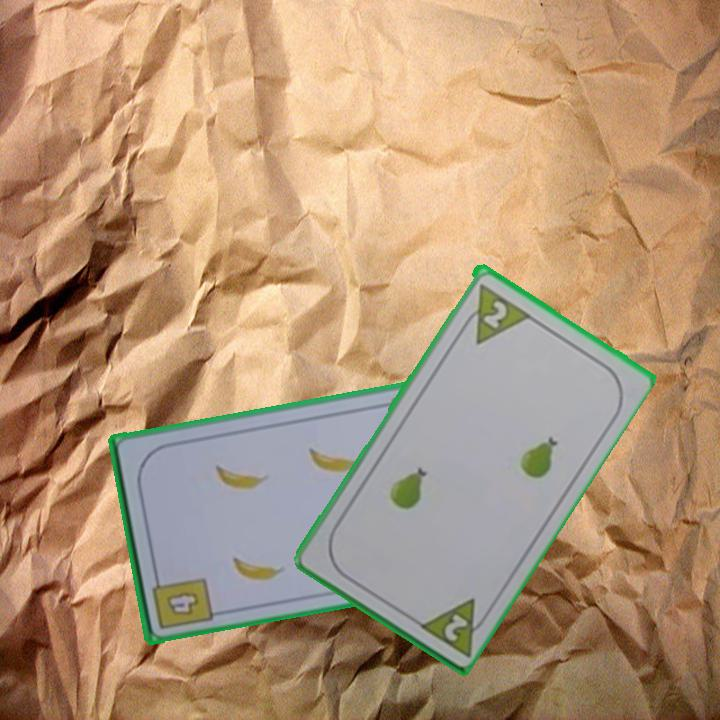2p: (479, 296, 510, 331), (440, 609, 471, 644)
4b: (163, 587, 203, 618)
